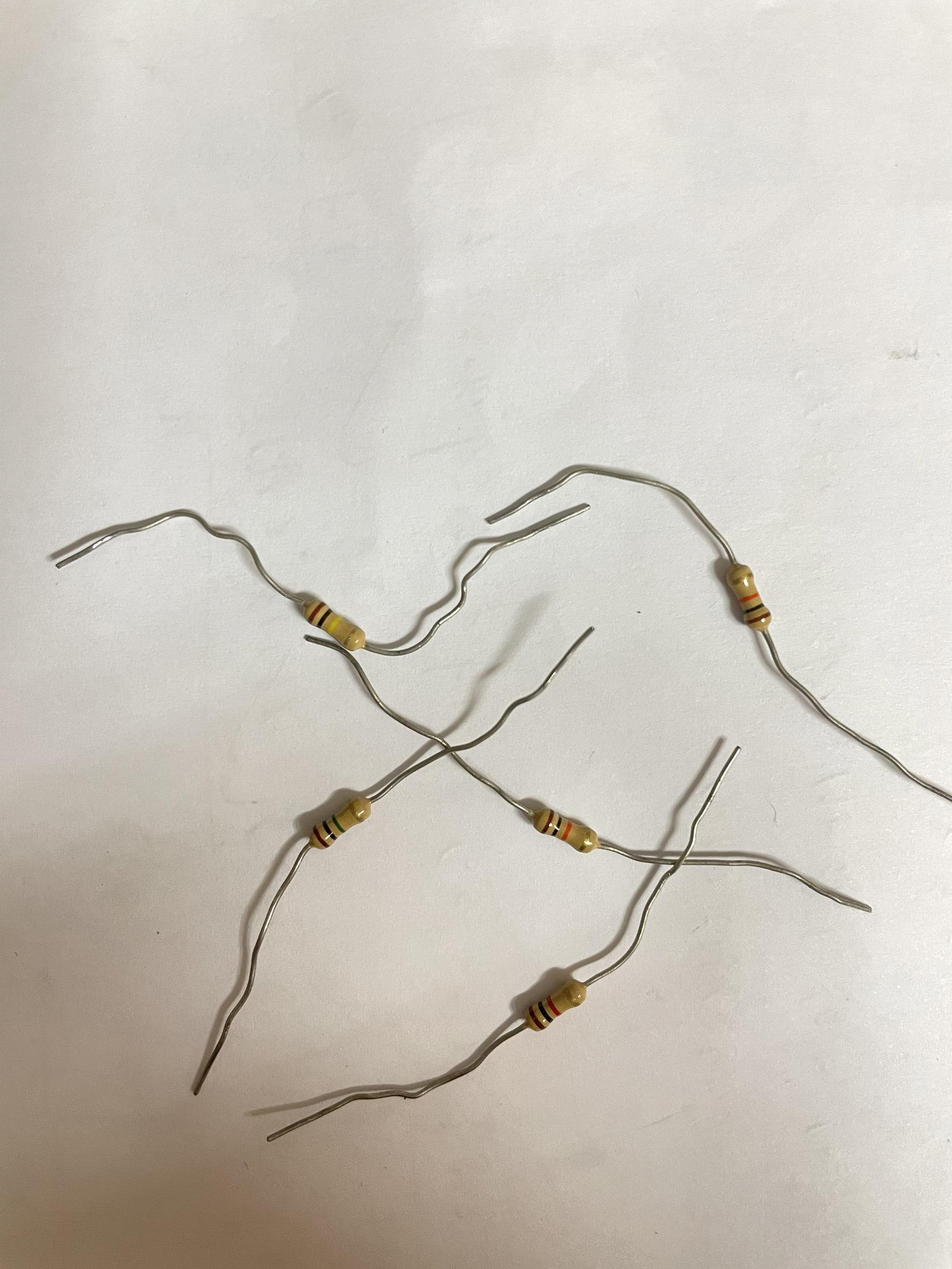resistor: (513, 793, 608, 850), (293, 582, 363, 650), (717, 546, 767, 637), (299, 780, 365, 843), (517, 973, 583, 1036)
